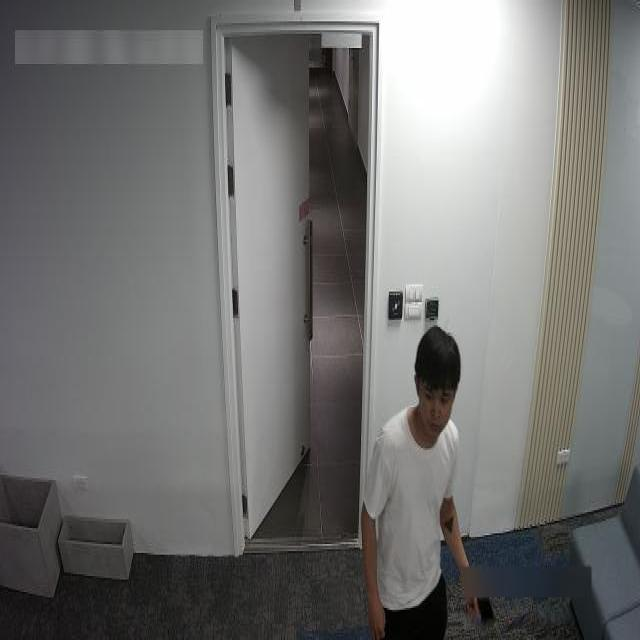bare_hand: (357, 585, 395, 638), (458, 578, 488, 624)
